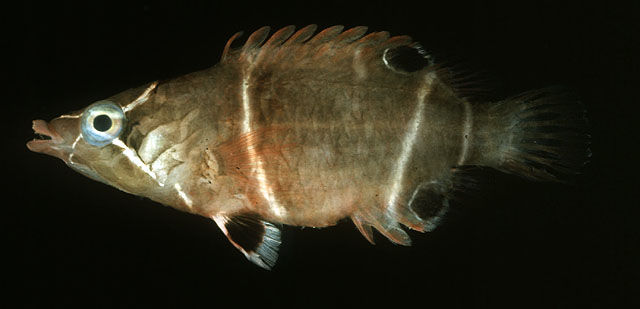fish: (26, 24, 558, 272)
